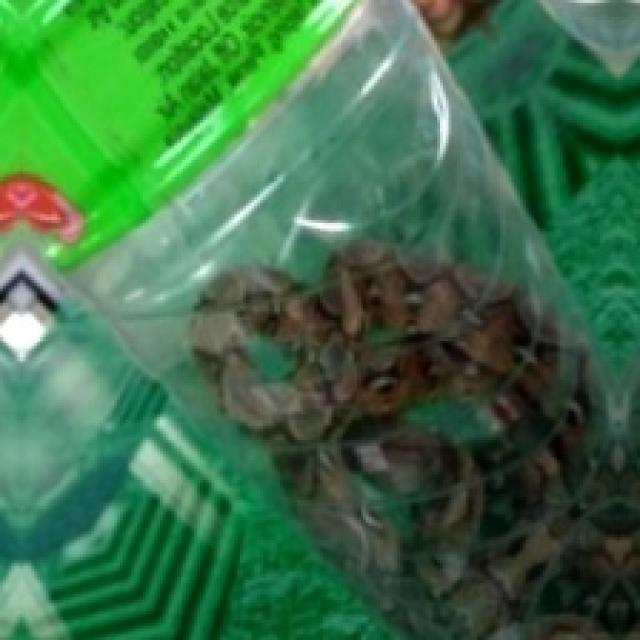reticulated python: (191, 243, 637, 637)
